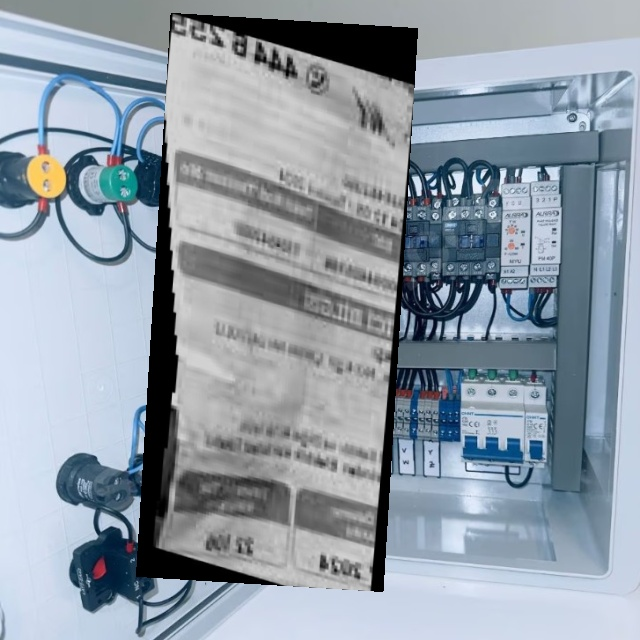electricity-bill: (135, 13, 417, 591)
